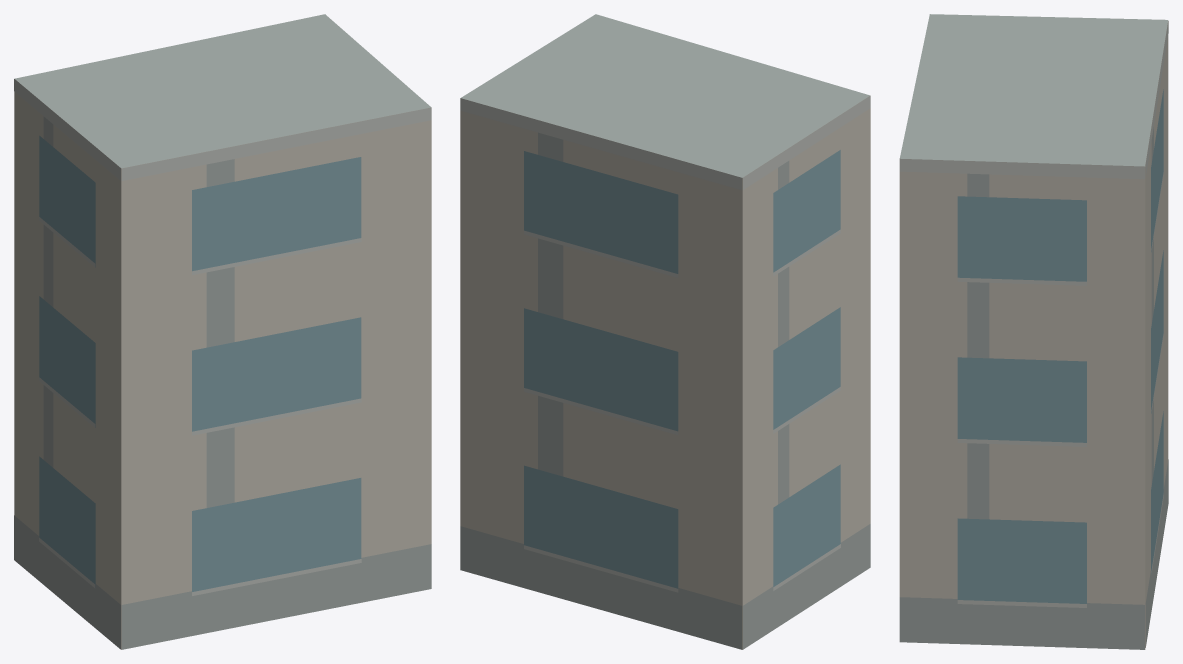
The model's file is survey-upis-32538370.glb.
3 views of the same model, side by side, from view 1: azimuth 30°, elevation 25°; view 2: azimuth 150°, elevation 25°; view 3: azimuth 270°, elevation 25° (orthographic). The views are drawn at different scales.
Visible parts, largest first — view 1: survey-upis-32538370.tmp; view 2: survey-upis-32538370.tmp; view 3: survey-upis-32538370.tmp.
Part boxes in pixels (x1,y1,x2,y2): survey-upis-32538370.tmp: (14,14,431,649); survey-upis-32538370.tmp: (460,14,870,649); survey-upis-32538370.tmp: (899,14,1168,649).
Size of the model in its own units: 6.2 by 9.15 by 4.62.
